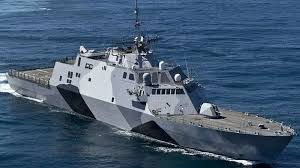tau_muctieu: (9, 32, 296, 165)
